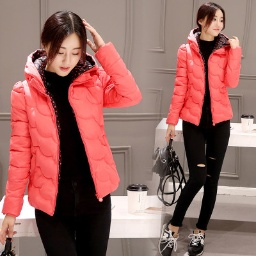face: (38, 10, 86, 80), (189, 1, 228, 40)
